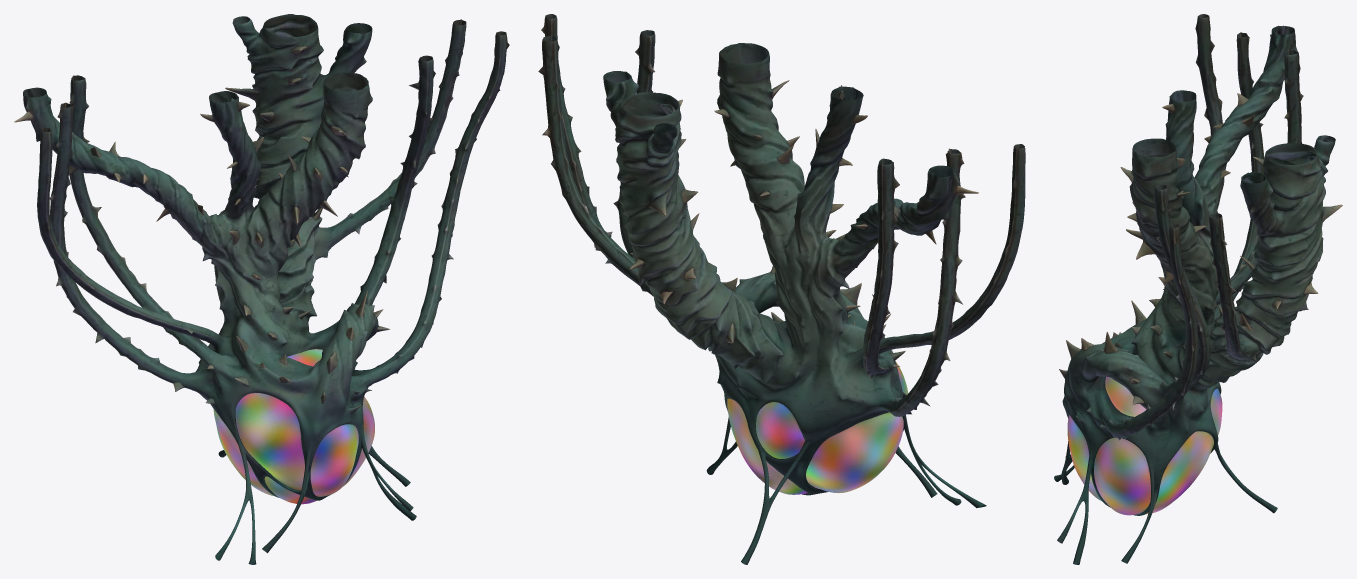
The picture shows the model from 3 angles, left to right: view 1: azimuth 30°, elevation 25°; view 2: azimuth 150°, elevation 25°; view 3: azimuth 270°, elevation 25°; orthographic projection. The views are drawn at different scales.
Parts seen in each view (by area): view 1: SM_Kuldra_Heart_01_LOD0; view 2: SM_Kuldra_Heart_01_LOD0; view 3: SM_Kuldra_Heart_01_LOD0.
Boxes of the visible parts, <box> form: SM_Kuldra_Heart_01_LOD0: <box>14,14,509,564</box>; SM_Kuldra_Heart_01_LOD0: <box>538,14,1025,564</box>; SM_Kuldra_Heart_01_LOD0: <box>1054,14,1342,564</box>.
Bounding box in the file's own units: 28.89 × 25.33 × 16.31.
Materials: 2 (2 with a texture image).
